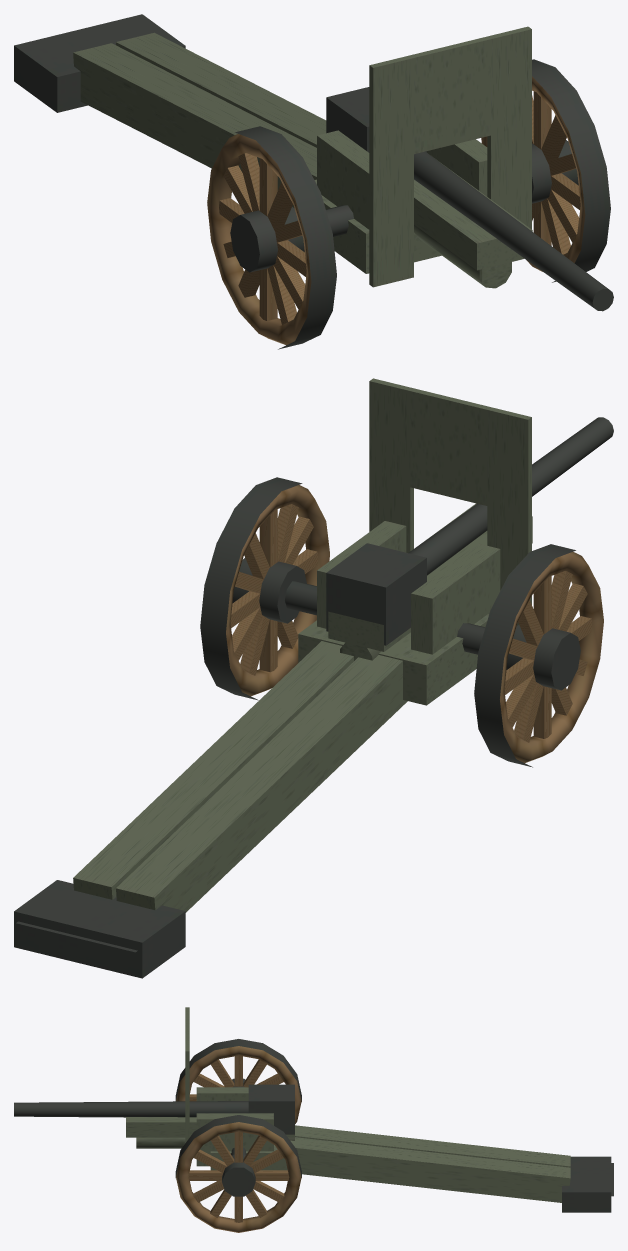
The model's file is artillery.glb.
3 views of the same model, one above another, from view 1: azimuth 30°, elevation 25°; view 2: azimuth 150°, elevation 25°; view 3: azimuth 270°, elevation 25° (orthographic). The views are drawn at different scales.
Parts seen in each view (by area): view 1: shield, wheels_right, trail_right, barrel, wheels_left, trail_left, carriage; view 2: trail_right, wheels_right, shield, wheels_left, trail_left, carriage, barrel; view 3: trail_left, wheels_left, barrel, trail_right, wheels_right, carriage, shield.
Part boxes in pixels (x1,y1,x2,y2): shield: (369,26,531,287); wheels_right: (207,126,336,349); trail_right: (14,25,316,207); barrel: (326,87,613,311); wheels_left: (481,59,610,282); trail_left: (57,14,326,147); carriage: (314,130,487,273); trail_right: (56,655,407,978); wheels_right: (474,544,603,767); shield: (369,378,531,625); wheels_left: (200,477,329,700); trail_left: (14,641,353,967); carriage: (285,521,500,705); barrel: (326,417,613,660); trail_left: (290,1137,613,1212); wheels_left: (175,1115,301,1232); barrel: (14,1084,294,1148); trail_right: (295,1125,613,1180); wheels_right: (175,1039,301,1123); carriage: (196,1087,287,1170); shield: (185,1007,189,1142).
Size of the model in its own units: 1.5 by 1.3 by 4.27.
Materials: 3 (3 with a texture image).
